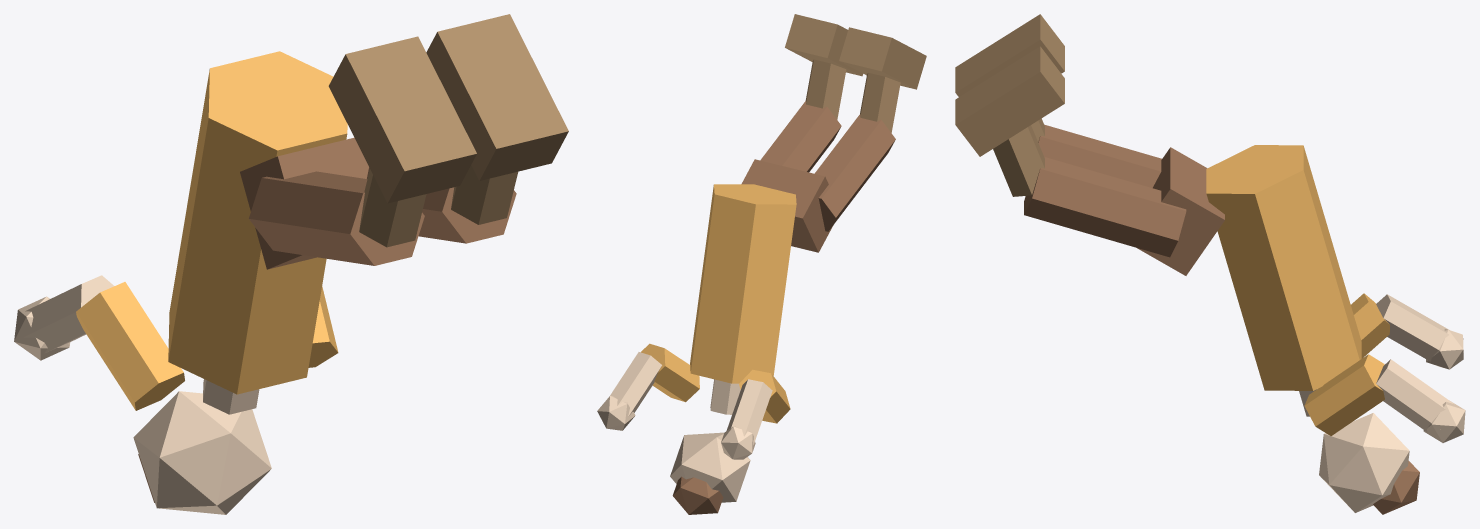
The model's file is pose_dodge_roll_27.glb.
3 views of the same model, side by side, from view 1: azimuth 30°, elevation 25°; view 2: azimuth 150°, elevation 25°; view 3: azimuth 270°, elevation 25° (orthographic). The views are drawn at different scales.
Visible parts, largest first — view 1: pose; view 2: pose; view 3: pose.
Boxes of the visible parts, x1=… form: pose: x1=14, y1=14, x2=568, y2=514; pose: x1=597, y1=14, x2=926, y2=514; pose: x1=955, y1=14, x2=1465, y2=514.
Size of the model in its own units: 0.496 by 1.2 by 1.18.
